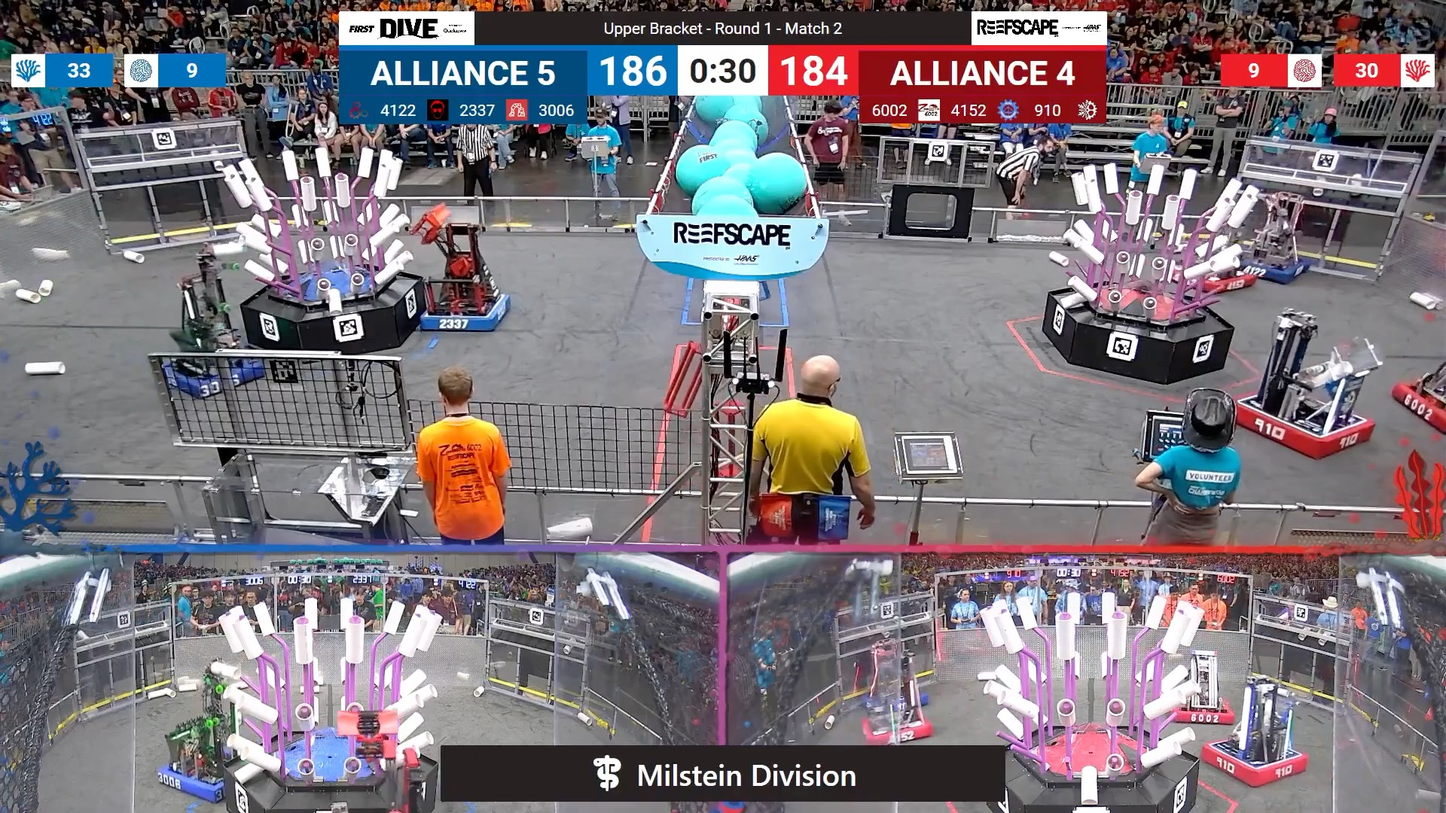bumpers: (1220, 390, 1380, 461), (410, 282, 517, 340), (155, 346, 274, 398), (1193, 737, 1313, 787), (154, 748, 263, 802), (1386, 371, 1445, 441), (854, 707, 938, 748), (1169, 263, 1263, 297), (1164, 690, 1238, 730)
